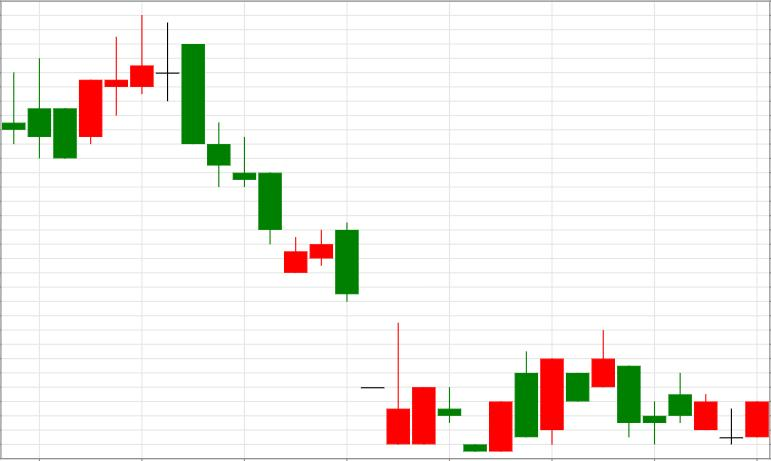inverse_hammer_rise: (181, 44, 410, 444)
